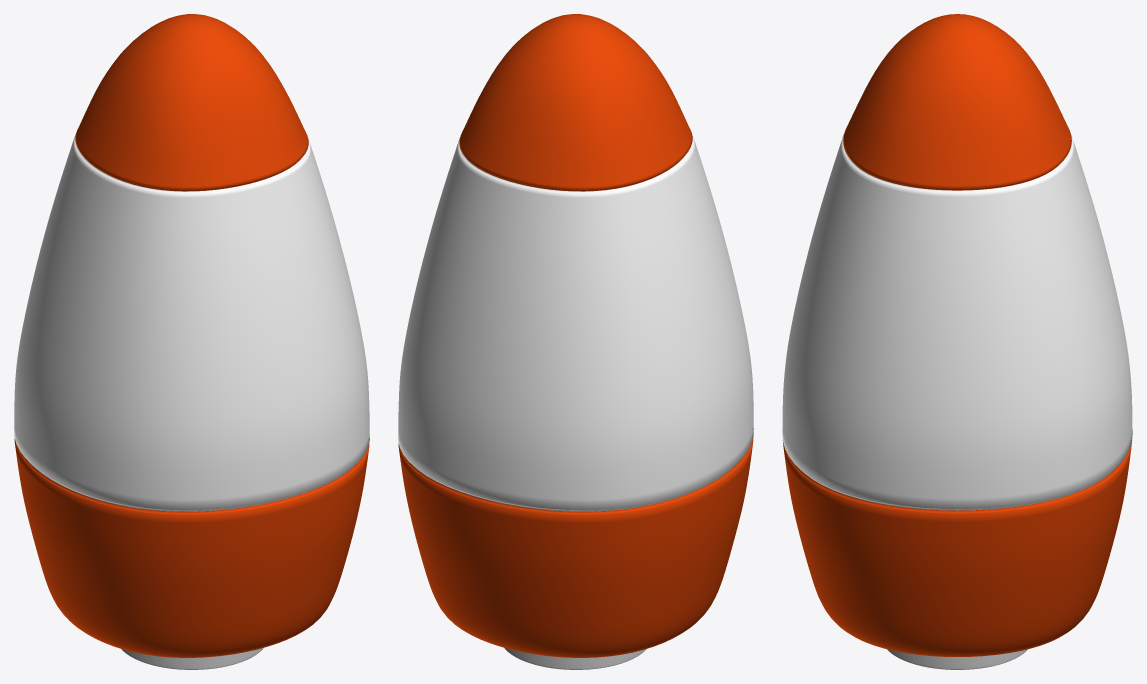
File: uploads_files_3153967_Cartoon+Rocket.fbx
3 views of the same model, side by side, from view 1: azimuth 30°, elevation 25°; view 2: azimuth 150°, elevation 25°; view 3: azimuth 270°, elevation 25° (orthographic).
Parts seen in each view (by area): view 1: Cube; view 2: Cube; view 3: Cube.
Boxes of the visible parts, x1=… form: Cube: x1=14, y1=14, x2=369, y2=669; Cube: x1=398, y1=14, x2=753, y2=669; Cube: x1=782, y1=14, x2=1132, y2=669.
Size of the model in its own units: 242 by 472 by 242.
